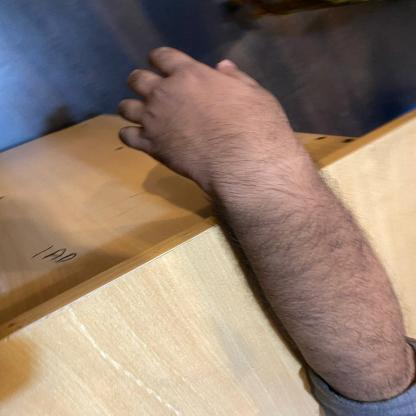hand: (103, 35, 408, 401)
